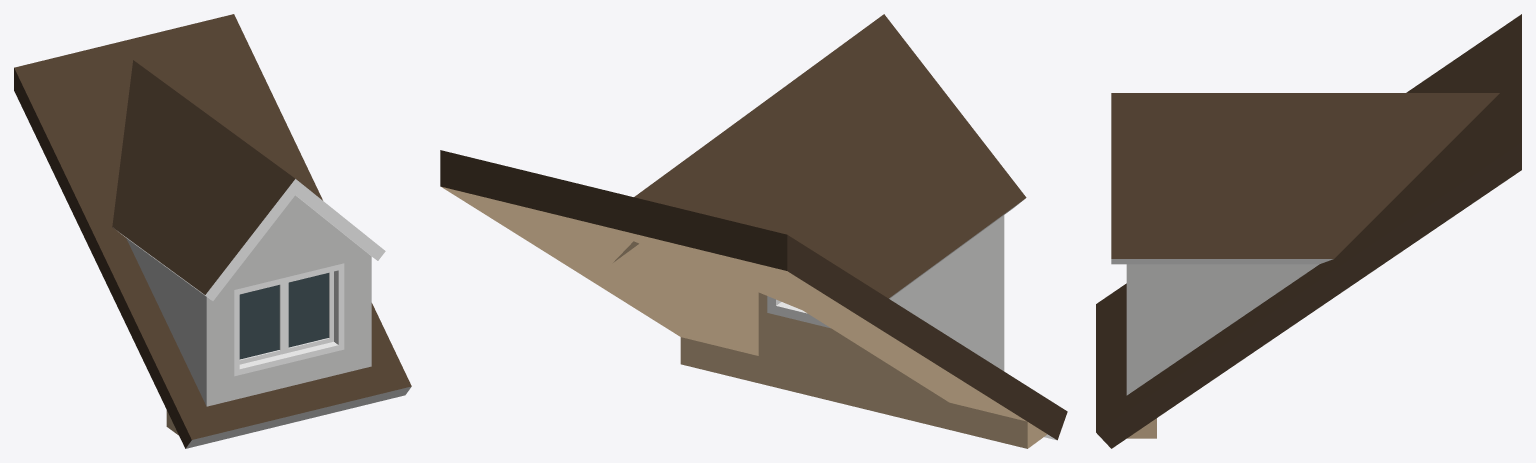
The model's file is buildings_house-roof-window-two-4x3m.fbx.
3 views of the same model, side by side, from view 1: azimuth 30°, elevation 25°; view 2: azimuth 150°, elevation 25°; view 3: azimuth 270°, elevation 25° (orthographic). The views are drawn at different scales.
Visible parts, largest first — view 1: buildings_house_roof_window_two_4x3m; view 2: buildings_house_roof_window_two_4x3m; view 3: buildings_house_roof_window_two_4x3m.
Boxes of the visible parts, box(x1,y1,x2,y2) form: buildings_house_roof_window_two_4x3m: box(14, 14, 411, 448); buildings_house_roof_window_two_4x3m: box(440, 14, 1067, 448); buildings_house_roof_window_two_4x3m: box(1096, 14, 1521, 448).
Size of the model in its own units: 143 by 159 by 200.
